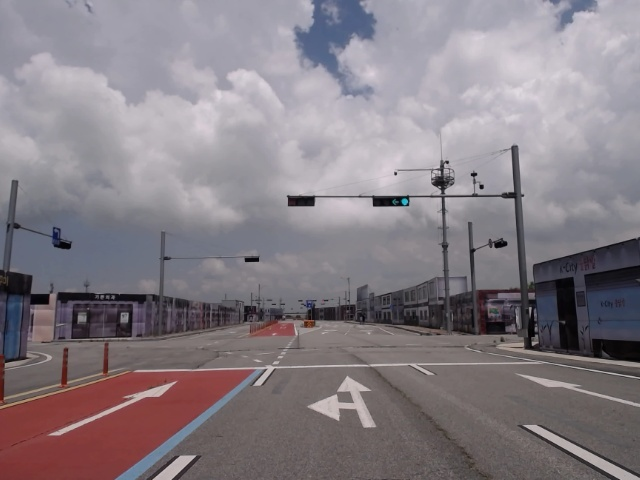all_green_4: (372, 196, 411, 206)
